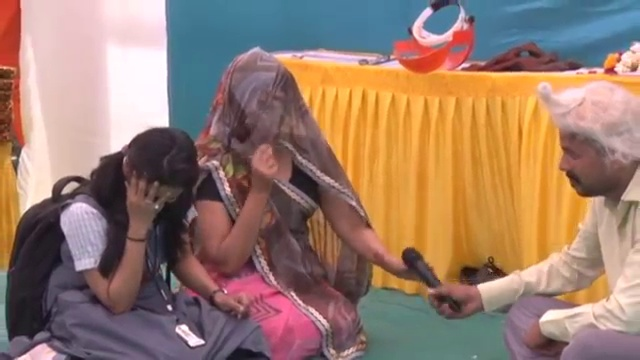helmet_off: (534, 81, 639, 204), (212, 49, 318, 166), (116, 131, 195, 206)
person: (172, 50, 426, 360), (427, 75, 640, 360), (0, 119, 223, 350)
